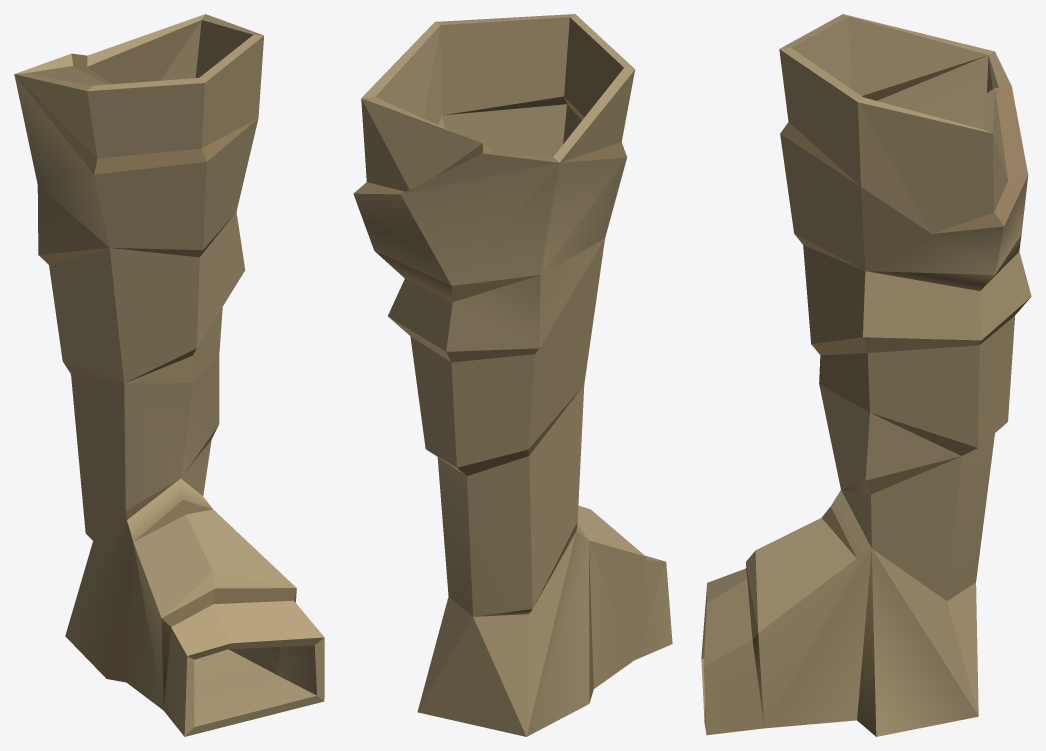
The model's file is Chr_LegLeft_Female_03_Drop.fbx.
The picture shows the model from 3 angles, left to right: view 1: azimuth 30°, elevation 25°; view 2: azimuth 150°, elevation 25°; view 3: azimuth 270°, elevation 25°; orthographic projection. The views are drawn at different scales.
Parts seen in each view (by area): view 1: Chr_LegLeft_Female_03_Static; view 2: Chr_LegLeft_Female_03_Static; view 3: Chr_LegLeft_Female_03_Static.
Boxes of the visible parts, x1,y1,x2,y2 form: Chr_LegLeft_Female_03_Static: (14, 14, 324, 736); Chr_LegLeft_Female_03_Static: (353, 14, 672, 736); Chr_LegLeft_Female_03_Static: (701, 14, 1031, 736).
Size of the model in its own units: 13.04 by 39.84 by 18.52.
